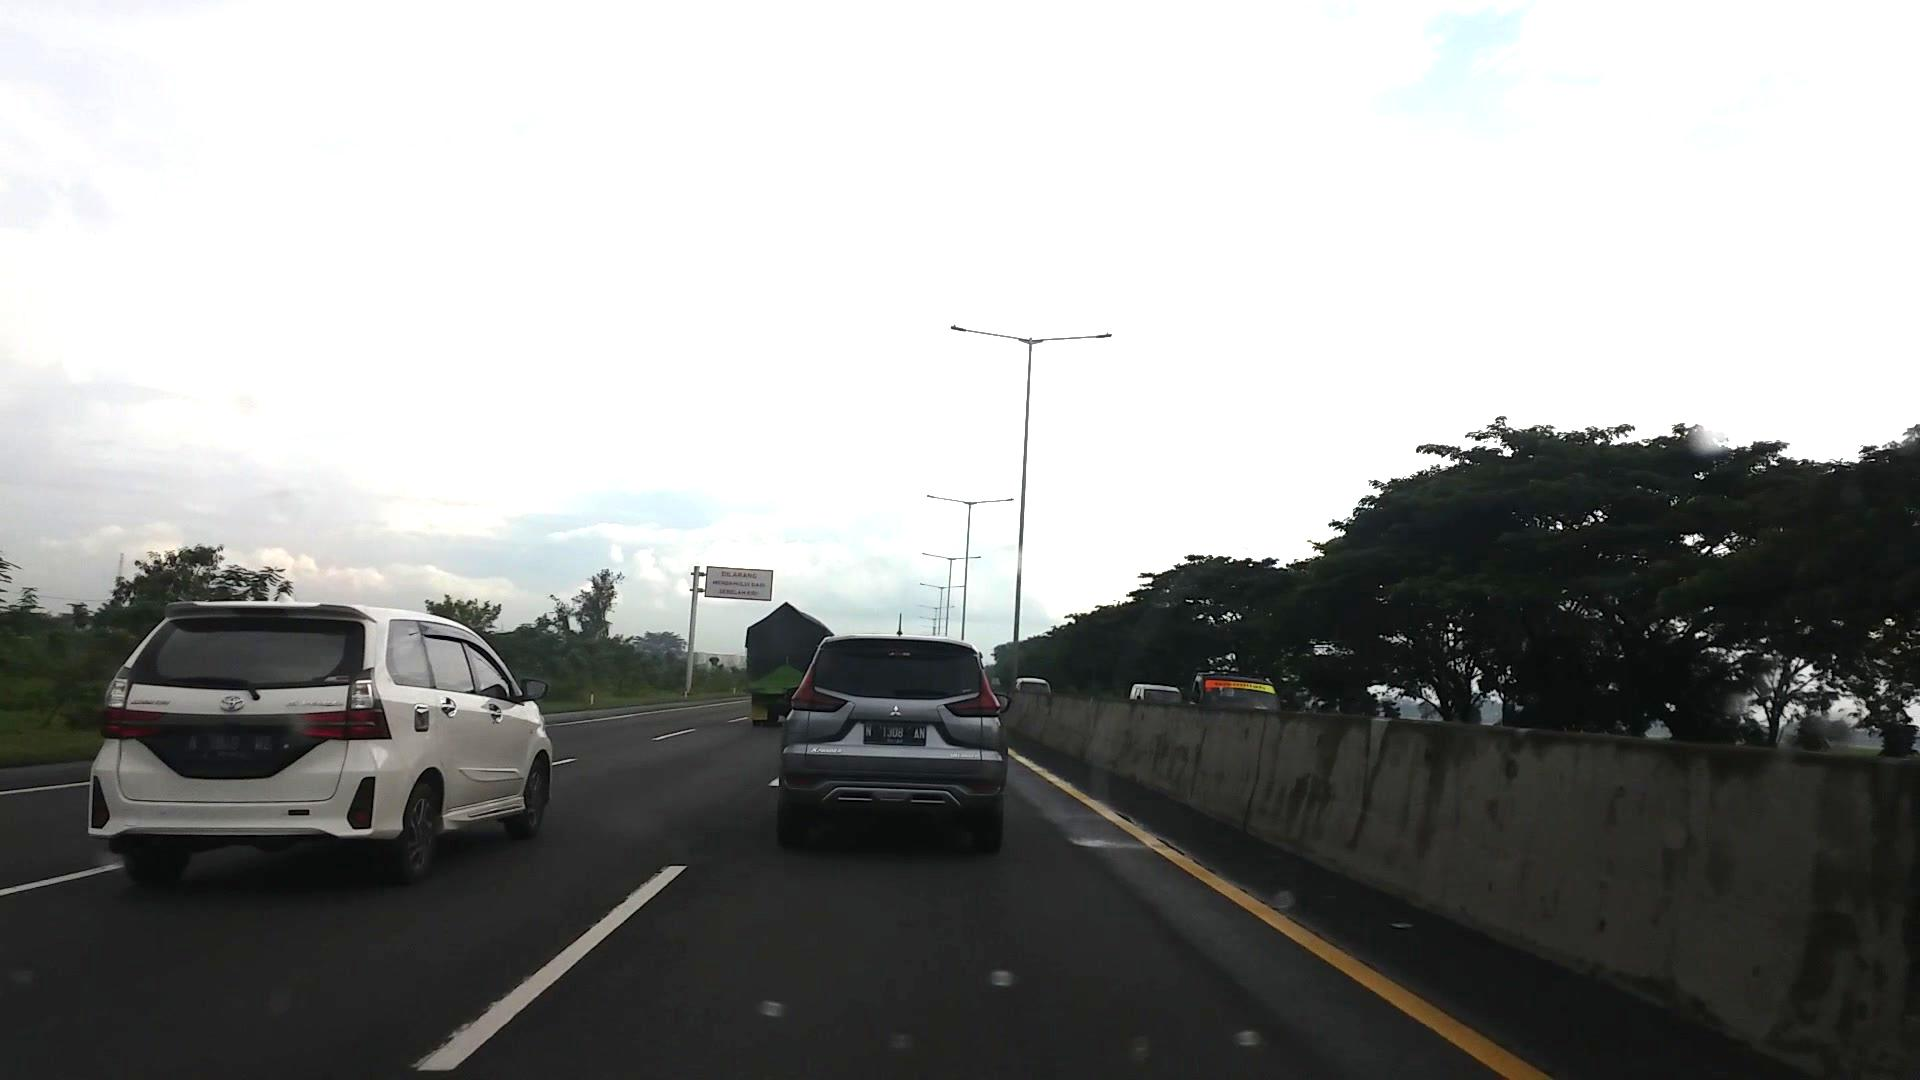plate_positive: (864, 723, 927, 745)
